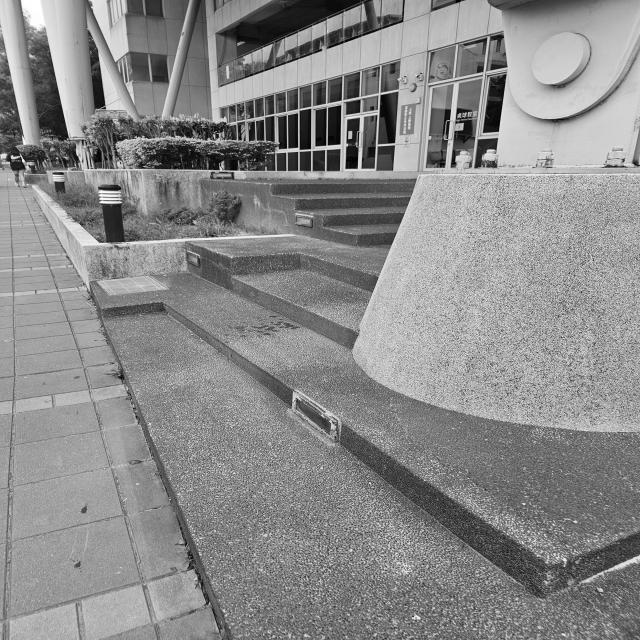Road-Object: (0, 170, 220, 640)
floor: (90, 180, 639, 640), (0, 172, 220, 640)
